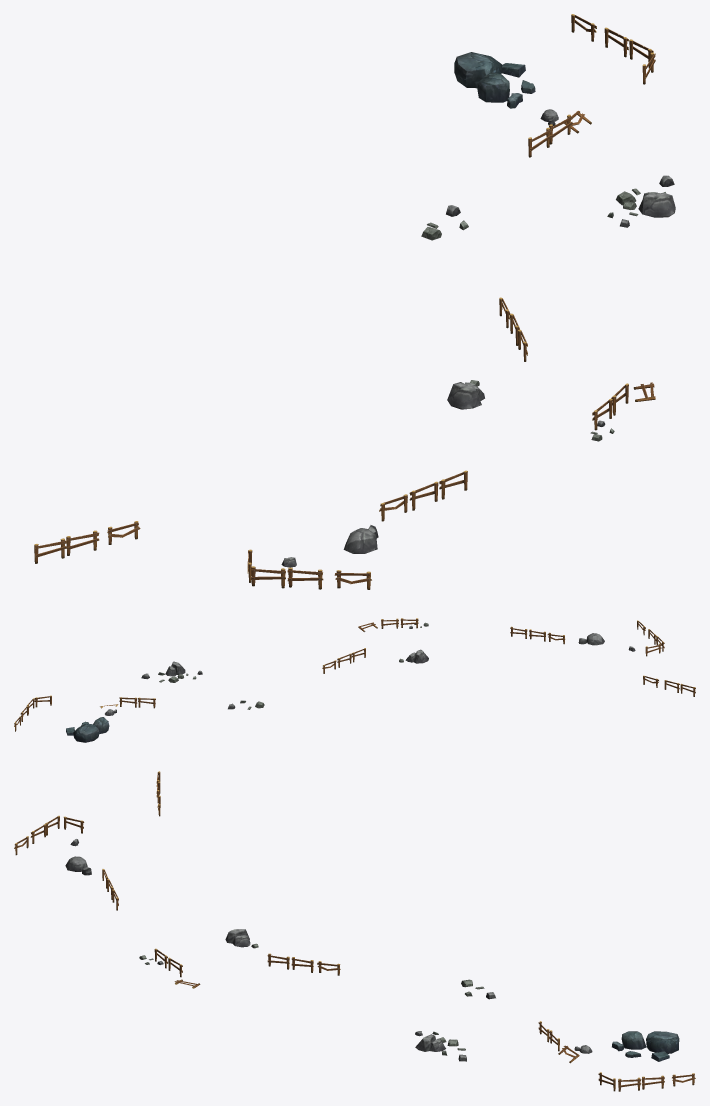
File: wujian33_1.fbx
3 renders of one model, top to bottom at view 1: azimuth 30°, elevation 25°; view 2: azimuth 150°, elevation 25°; view 3: azimuth 270°, elevation 25°, orthographic. The views are drawn at different scales.
Parts seen in each view (by area): view 1: wujian33_1; view 2: wujian33_1; view 3: wujian33_1.
Part boxes in pixels (x1,y1,x2,y2): wujian33_1: (34, 14, 675, 589); wujian33_1: (14, 618, 695, 742); wujian33_1: (14, 771, 695, 1091).
Bounding box in the file's own units: 6849 × 172 × 6393.
